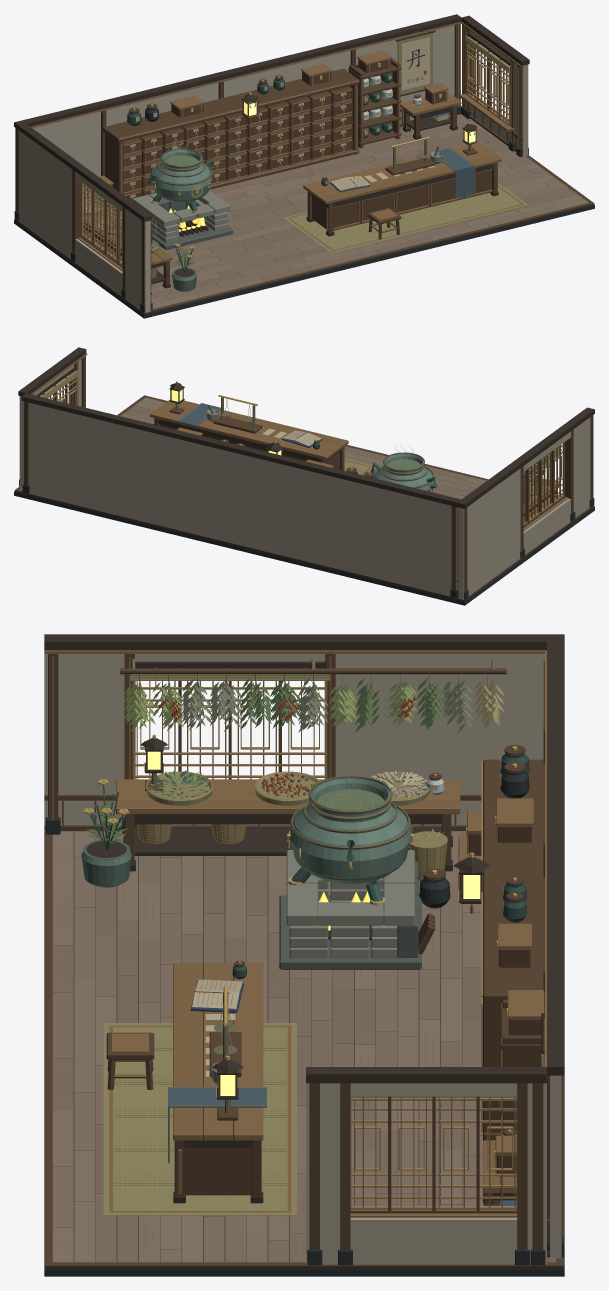
The model's file is alchemy_room.glb.
3 views of the same model, one above another, from view 1: azimuth 30°, elevation 25°; view 2: azimuth 150°, elevation 25°; view 3: azimuth 270°, elevation 25° (orthographic). The views are drawn at different scales.
Parts seen in each view (by area): view 1: Alchemy_architecture_Alchemy_matte, Alchemy_medicine_cabinet_Alchemy_matte, Alchemy_counter_Alchemy_matte, Alchemy_rug_Alchemy_matte, Alchemy_storage_shelf_Alchemy_matte, Alchemy_furnace_Alchemy_matte, Alchemy_window_east_Alchemy_matte, Alchemy_furnace_Alchemy_metal, Alchemy_window_west_Alchemy_matte, Alchemy_tea_console_Alchemy_matte, Alchemy_wall_scroll_Alchemy_matte, Alchemy_sorting_table_Alchemy_matte (+5 smaller); view 2: Alchemy_architecture_Alchemy_matte, Alchemy_counter_Alchemy_matte, Alchemy_window_west_Alchemy_matte, Alchemy_furnace_Alchemy_metal, Alchemy_window_east_Alchemy_matte, Alchemy_balance_scale_Alchemy_matte, Alchemy_recipe_book_Alchemy_matte, Alchemy_balance_scale_Alchemy_metal; view 3: Alchemy_architecture_Alchemy_matte, Alchemy_rug_Alchemy_matte, Alchemy_sorting_table_Alchemy_matte, Alchemy_counter_Alchemy_matte, Alchemy_medicine_cabinet_Alchemy_matte, Alchemy_herb_rack_Alchemy_matte, Alchemy_furnace_Alchemy_matte, Alchemy_furnace_Alchemy_metal, Alchemy_window_east_Alchemy_matte, Alchemy_window_west_Alchemy_matte, Alchemy_storage_shelf_Alchemy_matte, Alchemy_supplies_Alchemy_matte (+6 smaller).
Boxes of the visible parts, left/top/right/bottom form: Alchemy_architecture_Alchemy_matte: left=14, top=14, right=594, bottom=318; Alchemy_medicine_cabinet_Alchemy_matte: left=103, top=63, right=359, bottom=201; Alchemy_counter_Alchemy_matte: left=303, top=142, right=501, bottom=236; Alchemy_rug_Alchemy_matte: left=283, top=183, right=527, bottom=252; Alchemy_storage_shelf_Alchemy_matte: left=348, top=50, right=401, bottom=148; Alchemy_furnace_Alchemy_matte: left=132, top=155, right=233, bottom=249; Alchemy_window_east_Alchemy_matte: left=460, top=33, right=514, bottom=131; Alchemy_furnace_Alchemy_metal: left=148, top=148, right=214, bottom=213; Alchemy_window_west_Alchemy_matte: left=77, top=183, right=122, bottom=271; Alchemy_tea_console_Alchemy_matte: left=400, top=82, right=461, bottom=139; Alchemy_wall_scroll_Alchemy_matte: left=395, top=30, right=435, bottom=96; Alchemy_sorting_table_Alchemy_matte: left=83, top=197, right=172, bottom=288; Alchemy_architecture_Alchemy_matte: left=14, top=347, right=594, bottom=605; Alchemy_counter_Alchemy_matte: left=150, top=399, right=348, bottom=470; Alchemy_window_west_Alchemy_matte: left=523, top=442, right=568, bottom=530; Alchemy_furnace_Alchemy_metal: left=370, top=452, right=437, bottom=491; Alchemy_window_east_Alchemy_matte: left=36, top=367, right=79, bottom=405; Alchemy_balance_scale_Alchemy_matte: left=206, top=405, right=262, bottom=433; Alchemy_recipe_book_Alchemy_matte: left=281, top=430, right=322, bottom=447; Alchemy_balance_scale_Alchemy_metal: left=218, top=395, right=257, bottom=427; Alchemy_architecture_Alchemy_matte: left=44, top=634, right=564, bottom=1276; Alchemy_rug_Alchemy_matte: left=103, top=1023, right=296, bottom=1215; Alchemy_sorting_table_Alchemy_matte: left=116, top=770, right=460, bottom=871; Alchemy_counter_Alchemy_matte: left=168, top=960, right=266, bottom=1203; Alchemy_medicine_cabinet_Alchemy_matte: left=481, top=745, right=544, bottom=1140; Alchemy_herb_rack_Alchemy_matte: left=120, top=668, right=506, bottom=732; Alchemy_furnace_Alchemy_matte: left=279, top=789, right=435, bottom=969; Alchemy_furnace_Alchemy_metal: left=286, top=776, right=414, bottom=905; Alchemy_window_east_Alchemy_matte: left=350, top=1096, right=517, bottom=1217; Alchemy_window_west_Alchemy_matte: left=130, top=661, right=329, bottom=779; Alchemy_storage_shelf_Alchemy_matte: left=501, top=990, right=544, bottom=1135; Alchemy_supplies_Alchemy_matte: left=409, top=810, right=481, bottom=908.
Bounding box in the file's own units: 14 × 3 × 7.
